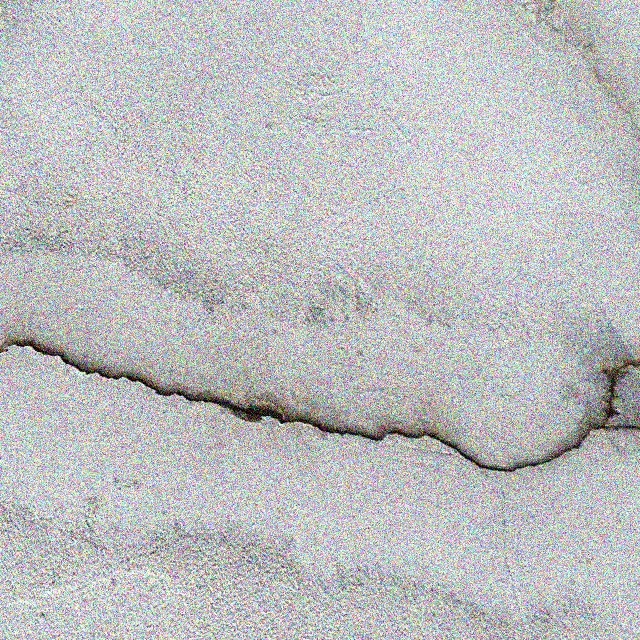SurfaceCrack: (1, 298, 640, 505)
